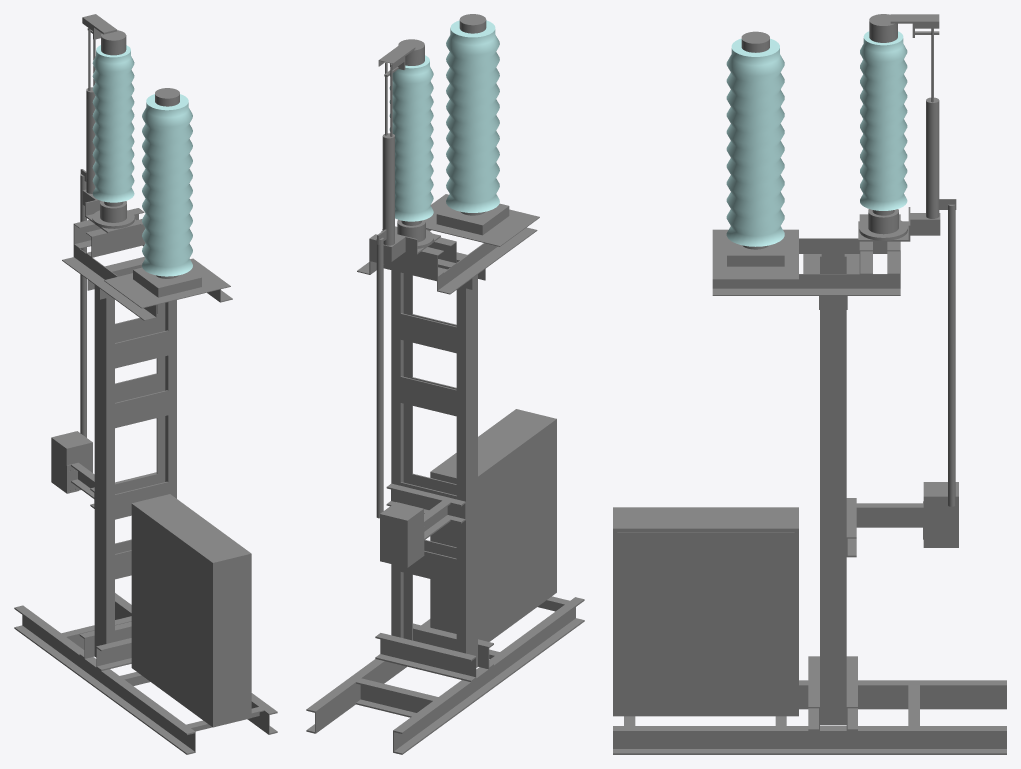
The model's file is Б110-84-2-1250Б-УХЛ1.fbx.
3 views of the same model, side by side, from view 1: azimuth 30°, elevation 25°; view 2: azimuth 150°, elevation 25°; view 3: azimuth 270°, elevation 25° (orthographic). The views are drawn at different scales.
Parts seen in each view (by area): view 1: Блок ЗОН-110; view 2: Блок ЗОН-110; view 3: Блок ЗОН-110.
Boxes of the visible parts, x1=… form: Блок ЗОН-110: x1=14, y1=14, x2=277, y2=754; Блок ЗОН-110: x1=306, y1=14, x2=584, y2=754; Блок ЗОН-110: x1=613, y1=14, x2=1006, y2=754.
Size of the model in its own units: 549 by 3548 by 1780.
